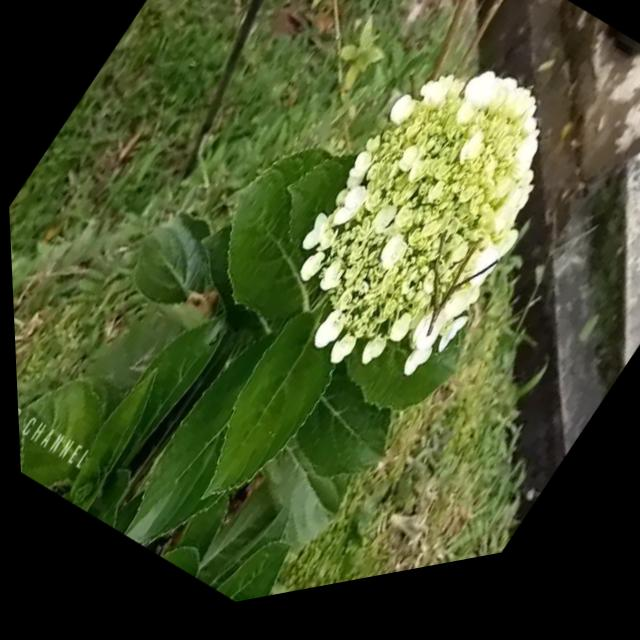Flower: (240, 20, 616, 455)
